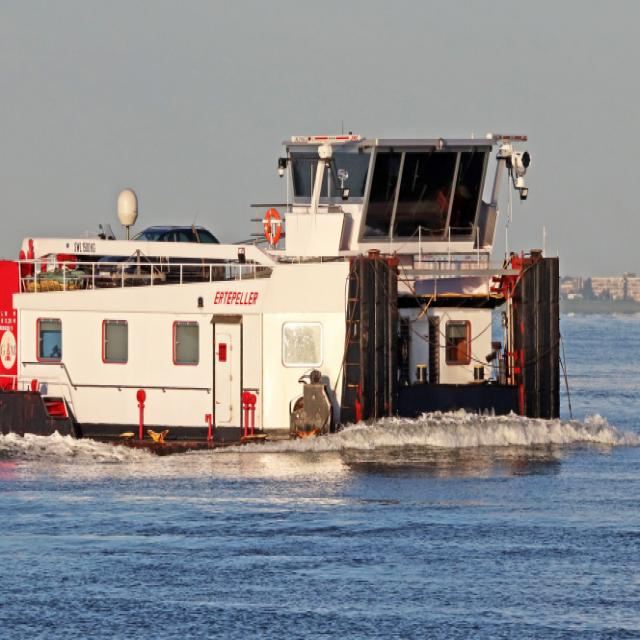tugboat: (1, 130, 614, 477)
